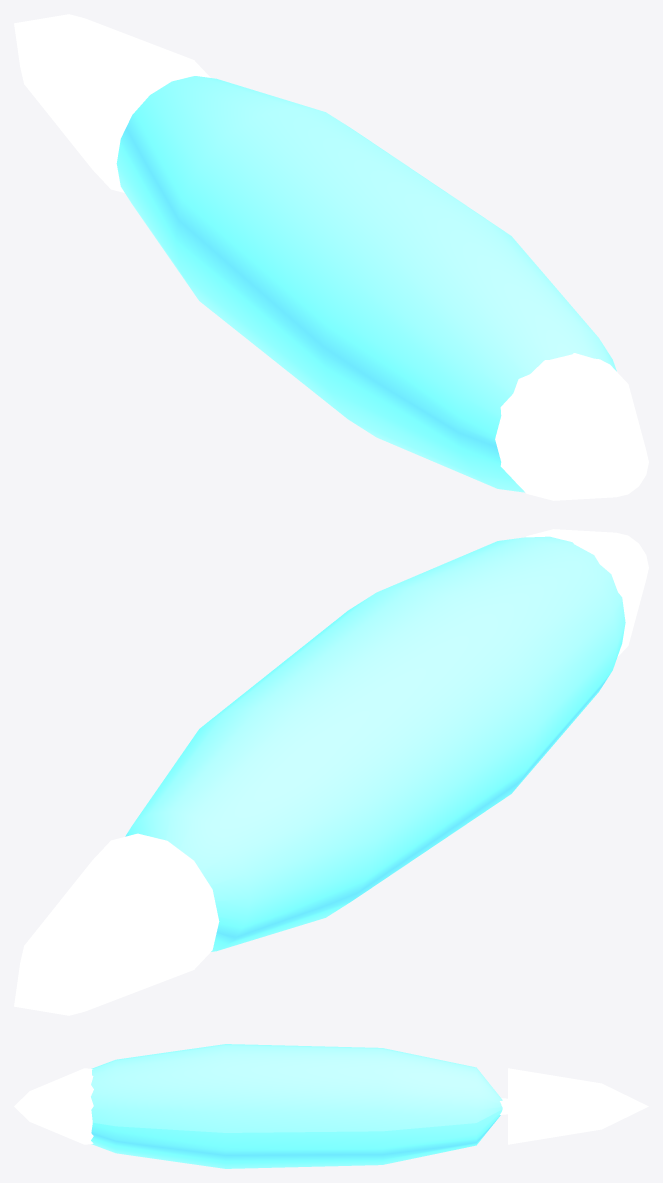
Rendered from vfx-mesh-library-bolt-capsule-ad4635f3__21866.glb.
The picture shows the model from 3 angles, top to bottom: view 1: azimuth 30°, elevation 25°; view 2: azimuth 150°, elevation 25°; view 3: azimuth 270°, elevation 25°; orthographic projection. The views are drawn at different scales.
Parts seen in each view (by area): view 1: bolt-capsule; view 2: bolt-capsule; view 3: bolt-capsule.
Part boxes in pixels (x1,y1,x2,y2): bolt-capsule: (14, 14, 648, 500); bolt-capsule: (14, 529, 648, 1015); bolt-capsule: (14, 1044, 648, 1168).
Bounding box in the file's own units: 0.16 × 0.1576 × 0.81.
